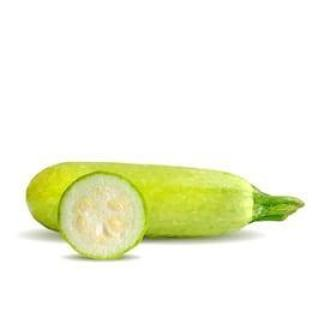Zucchini: (27, 162, 303, 236), (59, 173, 146, 259)
